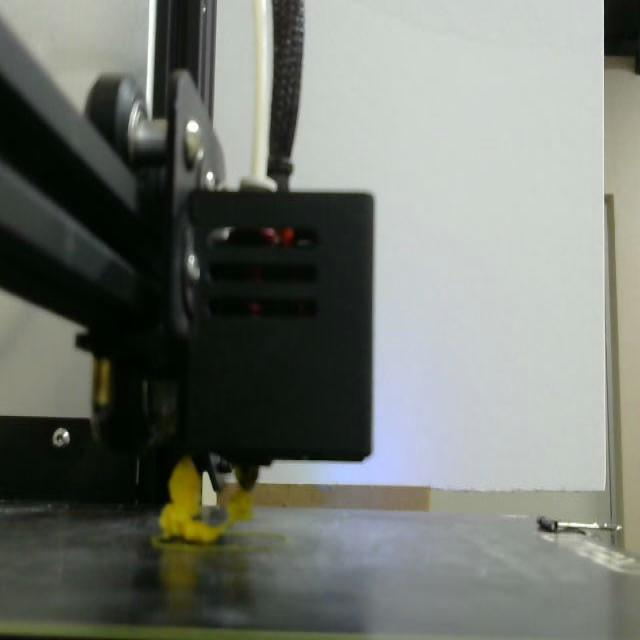spaghetti: (160, 457, 252, 542)
